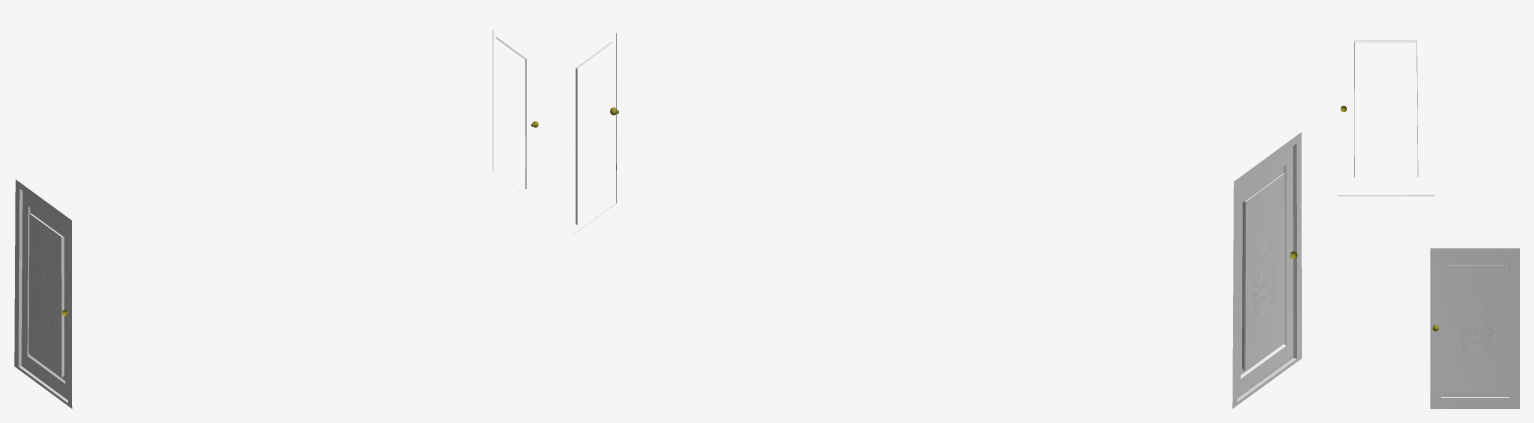
Rendered from door.glb.
3 renders of one model, left to right at view 1: azimuth 30°, elevation 25°; view 2: azimuth 150°, elevation 25°; view 3: azimuth 270°, elevation 25°, orthographic. The views are drawn at different scales.
Visible parts, largest first — view 1: polySurface30, front_door; view 2: polySurface30, front_door; view 3: front_door, polySurface30.
Boxes of the visible parts, x1,y1,x2,y2 form: polySurface30: (14, 179, 72, 408); front_door: (492, 30, 526, 195); polySurface30: (1232, 132, 1301, 408); front_door: (574, 33, 616, 233); front_door: (1430, 248, 1519, 408); polySurface30: (1338, 40, 1434, 196).
Bounding box in the file's own units: 0.8224 × 0.2986 × 0.2654.
Materials: 2 (1 with a texture image).
